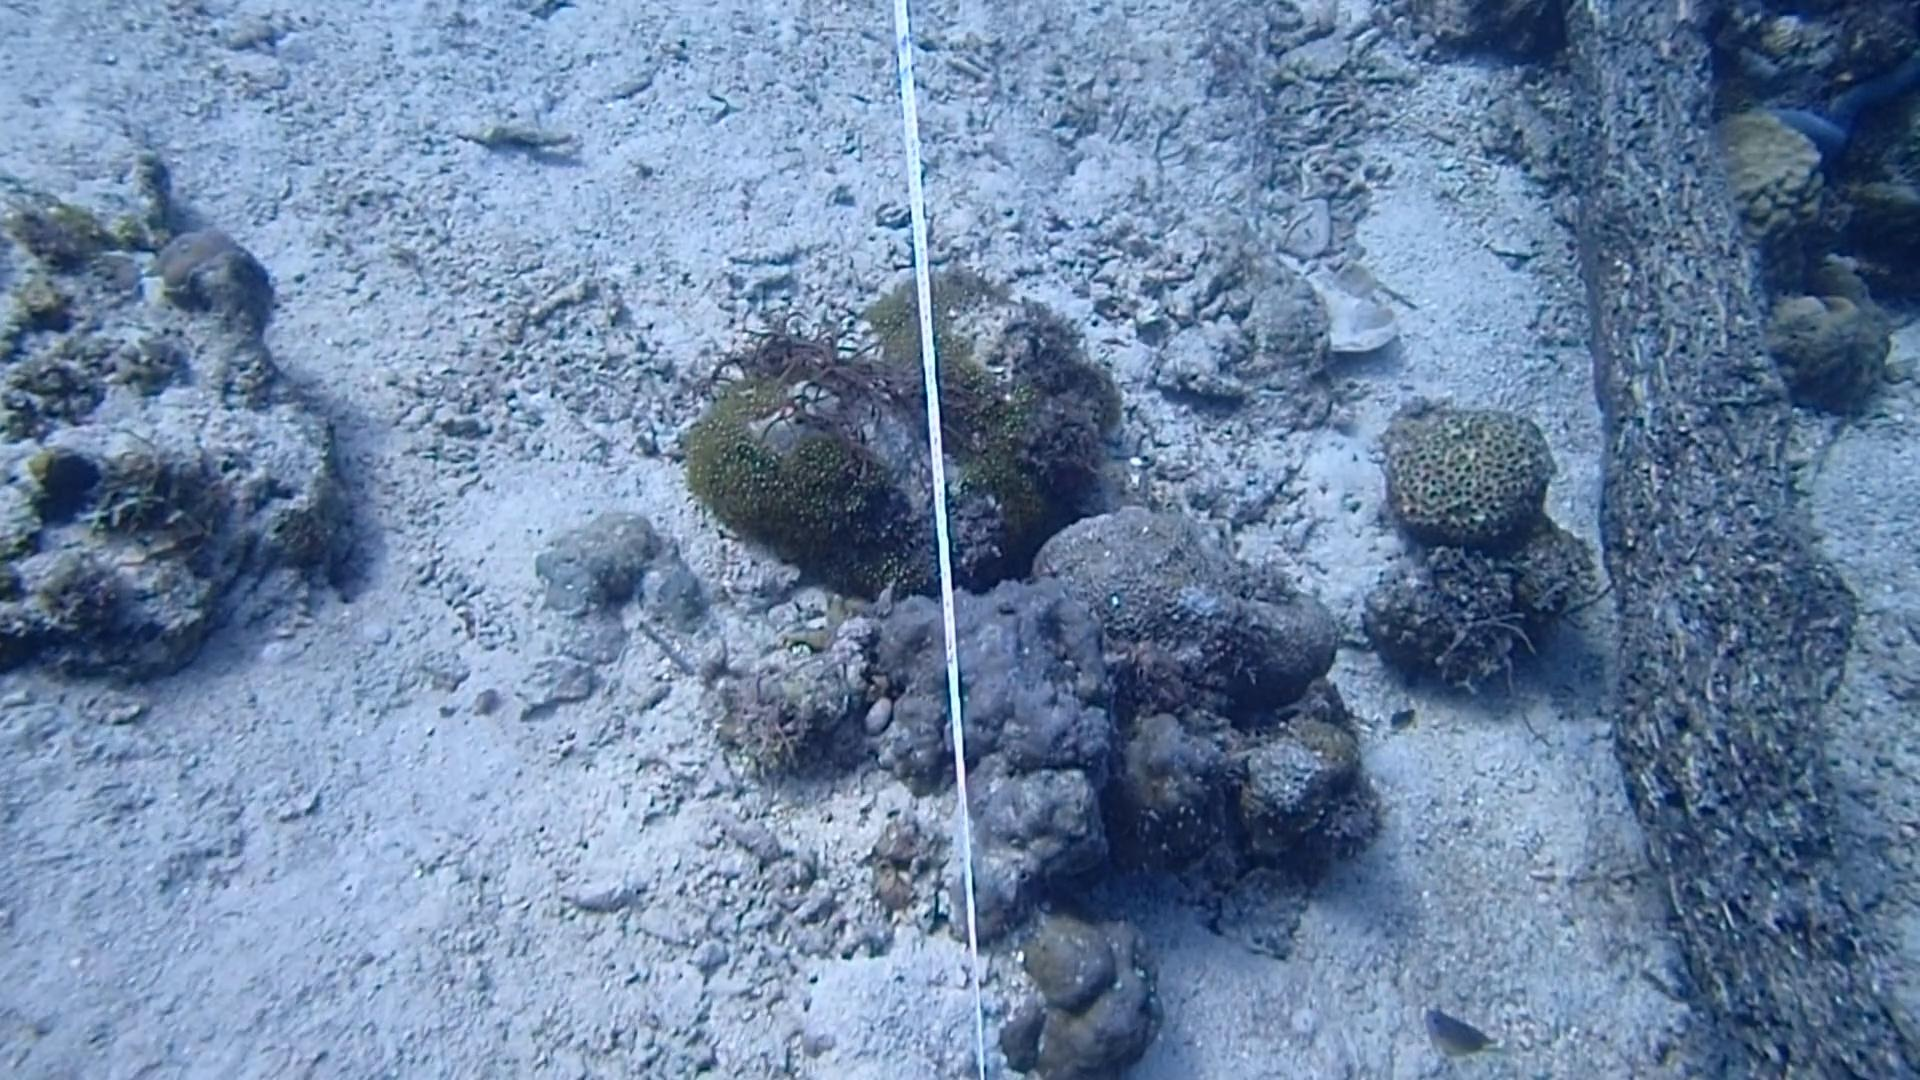Light Fish: (1412, 996, 1495, 1072)
